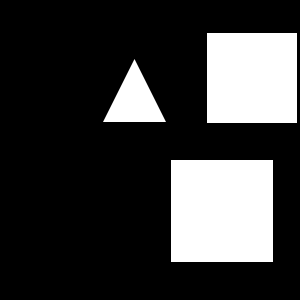circle: (171, 160, 273, 262), (207, 33, 297, 123)
triangle: (103, 59, 166, 122)
